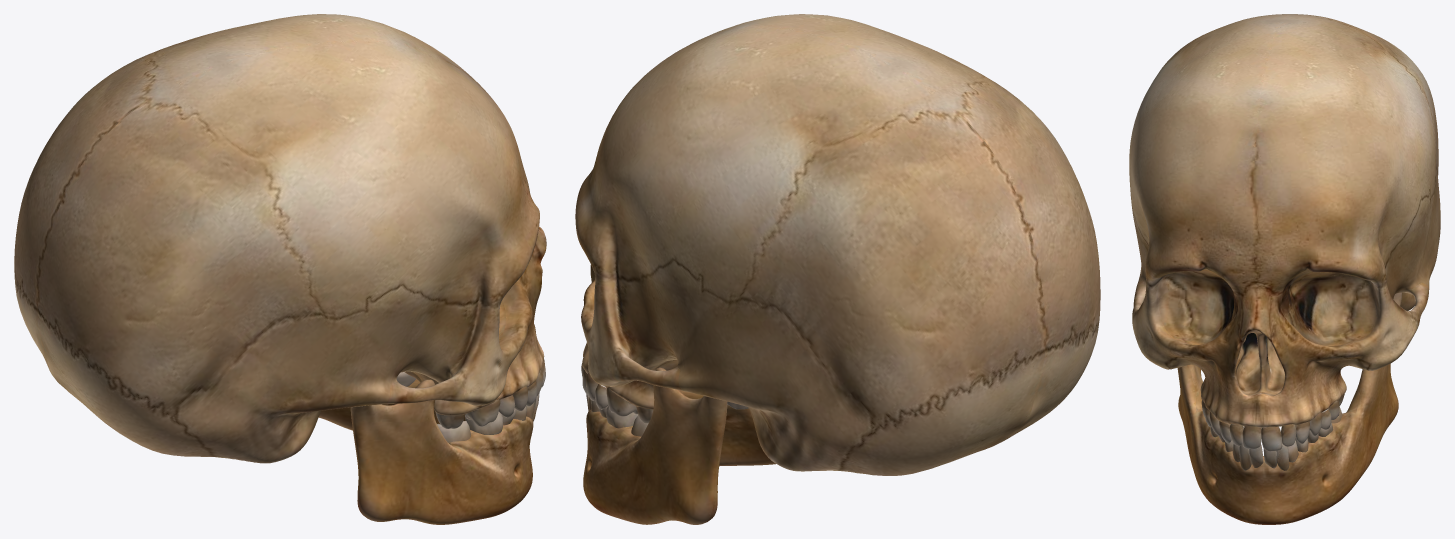
Rendered from Skull.glb.
3 renders of one model, left to right at view 1: azimuth 30°, elevation 25°; view 2: azimuth 150°, elevation 25°; view 3: azimuth 270°, elevation 25°, orthographic. The views are drawn at different scales.
Visible parts, largest first — view 1: 12140_Skull_v3_L2.001; view 2: 12140_Skull_v3_L2.001; view 3: 12140_Skull_v3_L2.001.
Part boxes in pixels (left/top/right/bottom): 12140_Skull_v3_L2.001: left=14, top=14, right=546, bottom=524; 12140_Skull_v3_L2.001: left=575, top=14, right=1100, bottom=524; 12140_Skull_v3_L2.001: left=1129, top=14, right=1440, bottom=524.
Bounding box in the file's own units: 2.91 × 2.83 × 2.03.
1 material, 1 textured.
